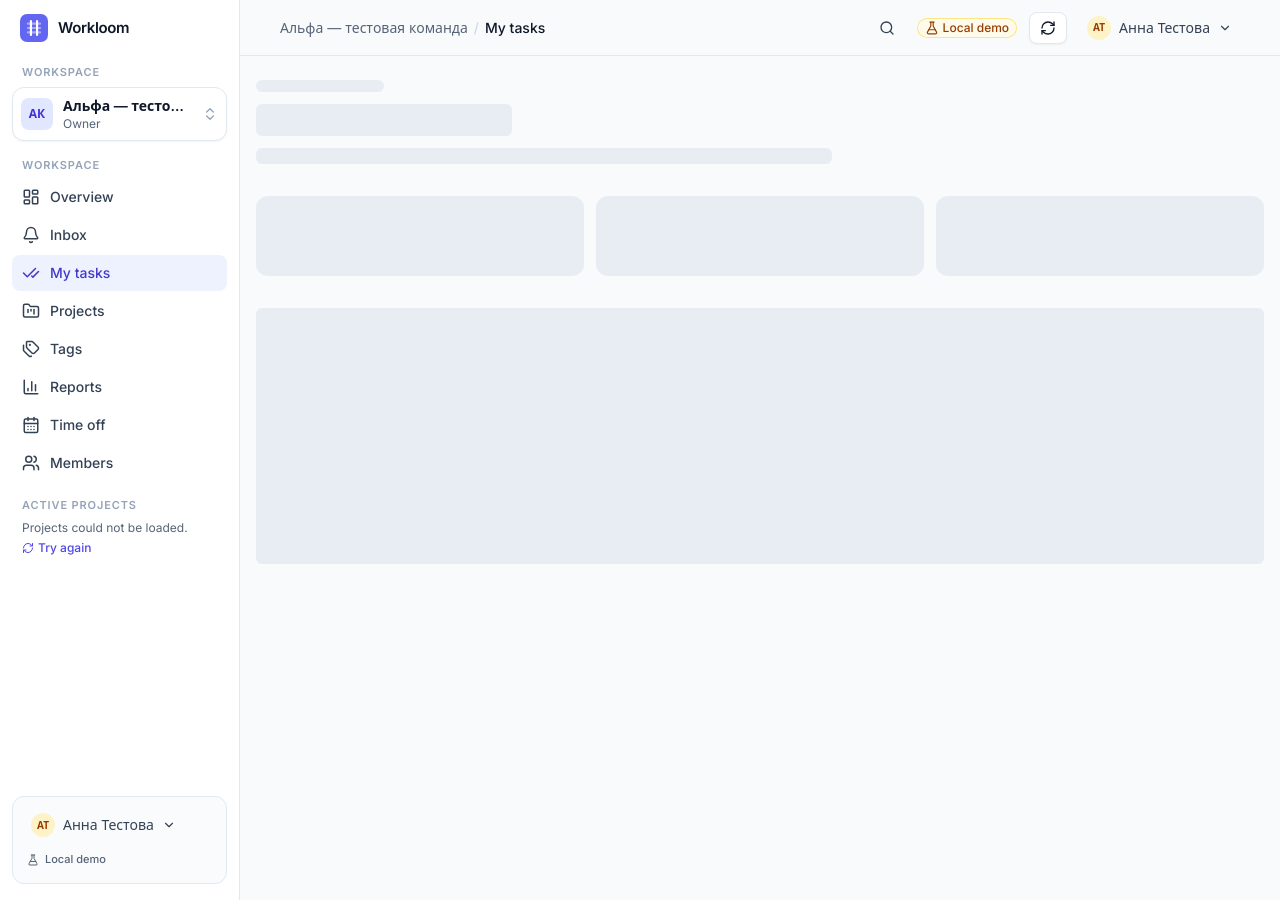
it: sidebar project list › shows a neutral error with an explicit retry and keeps the rest of navigation usable
The width and height of the screenshot is (1280, 900).
expect the text "Projects could not be loaded." is shown: met, box [22,520,188,534]
Click the button "Try again" at x=57, y=548, box [22,540,91,556]
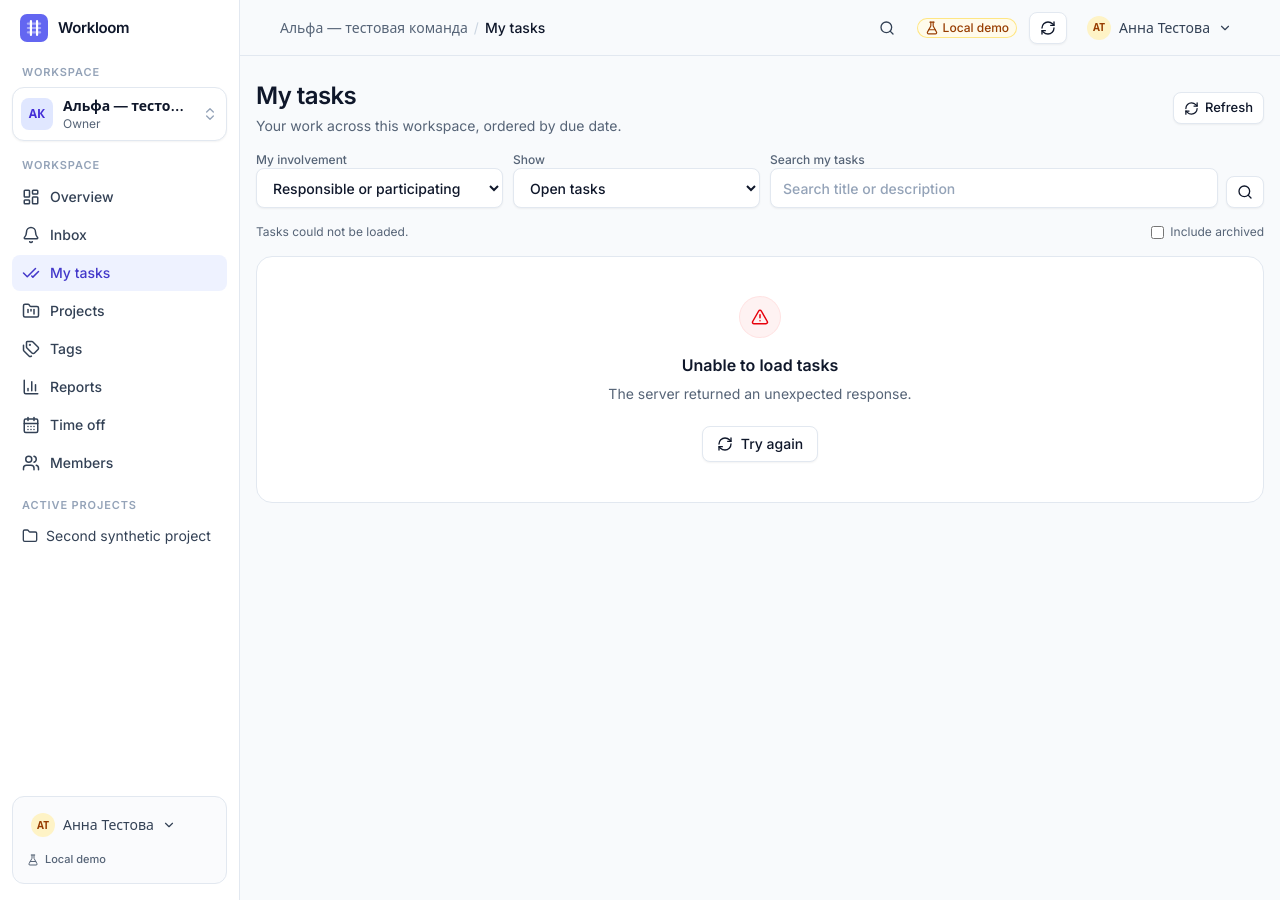
expect the link "Second synthetic project" is shown: met, box [22,526,211,544]
